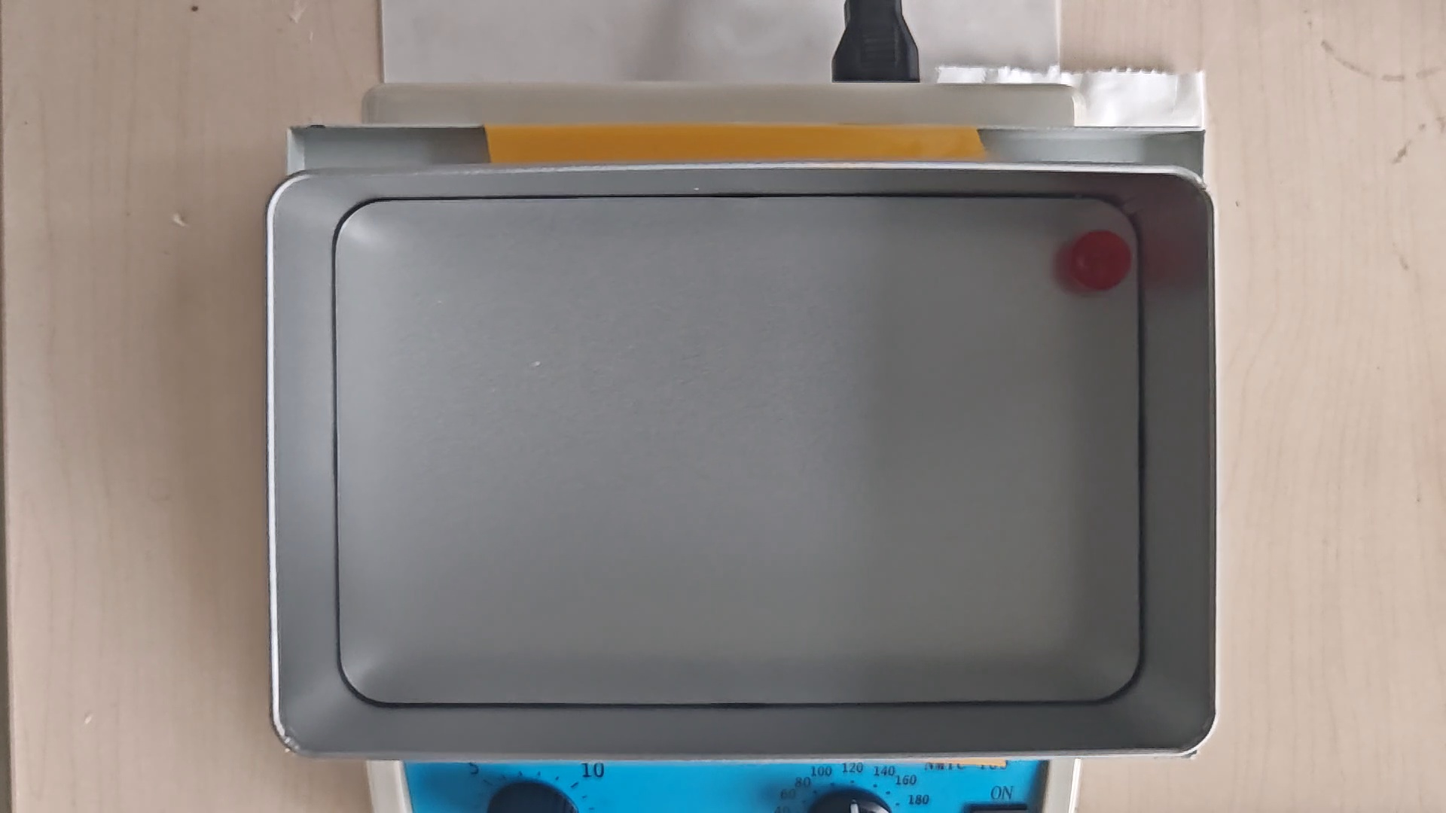ball: (1074, 229, 1130, 291)
container: (334, 197, 1142, 703)
